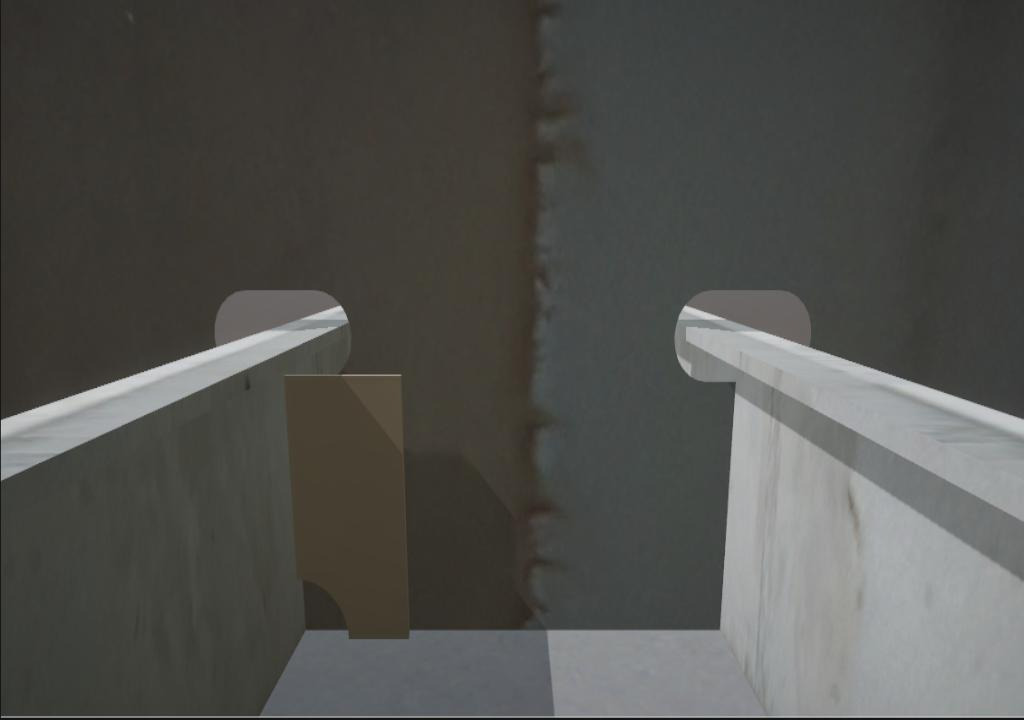fillet_yong_jeop_jang: (302, 625, 721, 637)
longi_yong_jeop_jang: (712, 375, 742, 645)
plate_CP02: (286, 371, 411, 640)
